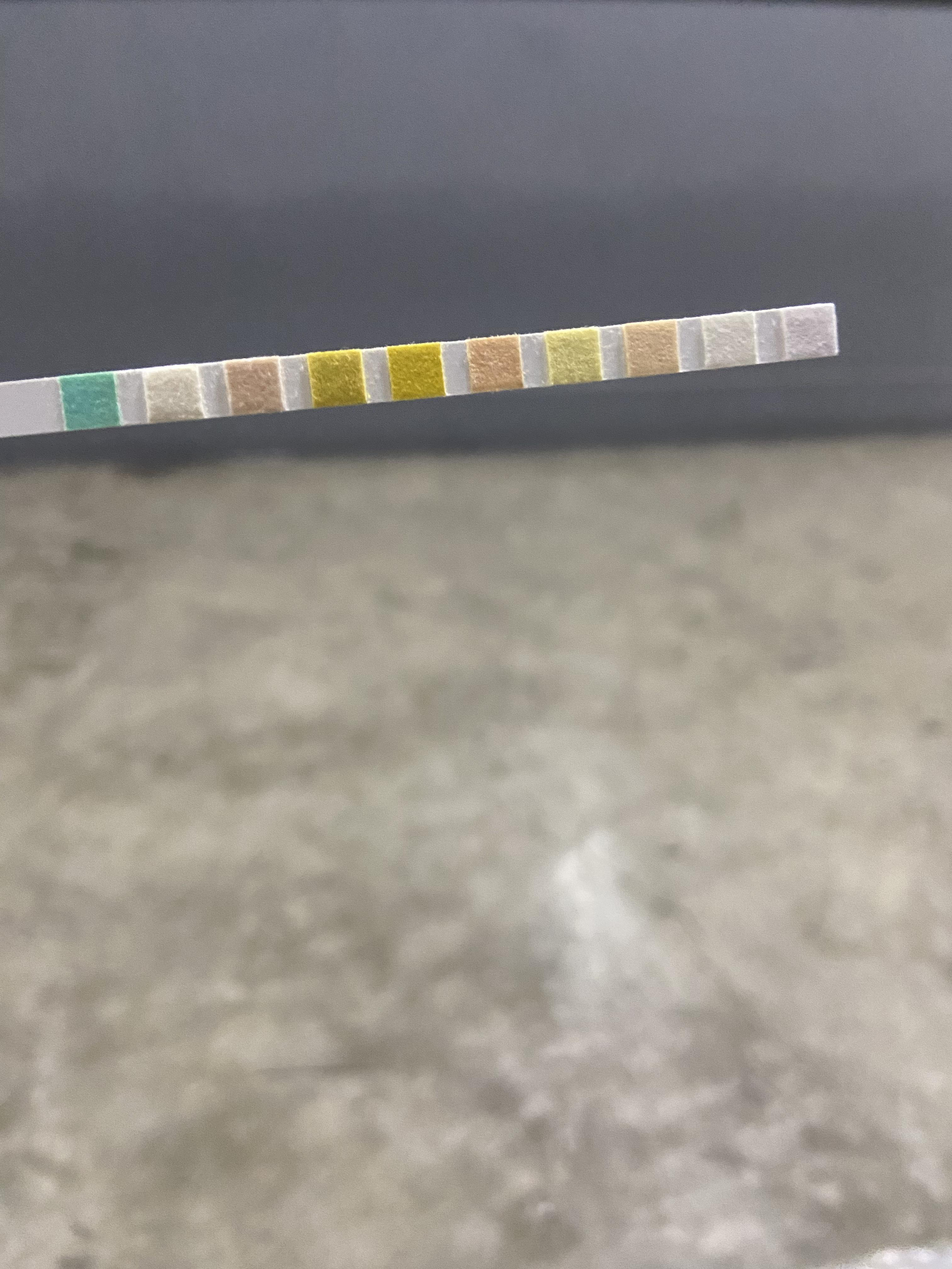Bilirubin: (150, 370, 197, 419)
Blood: (396, 346, 439, 396)
Glucose: (67, 378, 112, 426)
Ketone: (234, 363, 277, 413)
Leukocytes: (789, 309, 833, 356)
Nitrite: (708, 317, 753, 365)
Protein: (552, 333, 597, 381)
SpGravity: (316, 354, 359, 405)
Urobilinogen: (630, 323, 674, 373)
pH: (476, 340, 518, 389)
strip: (0, 303, 839, 437)
